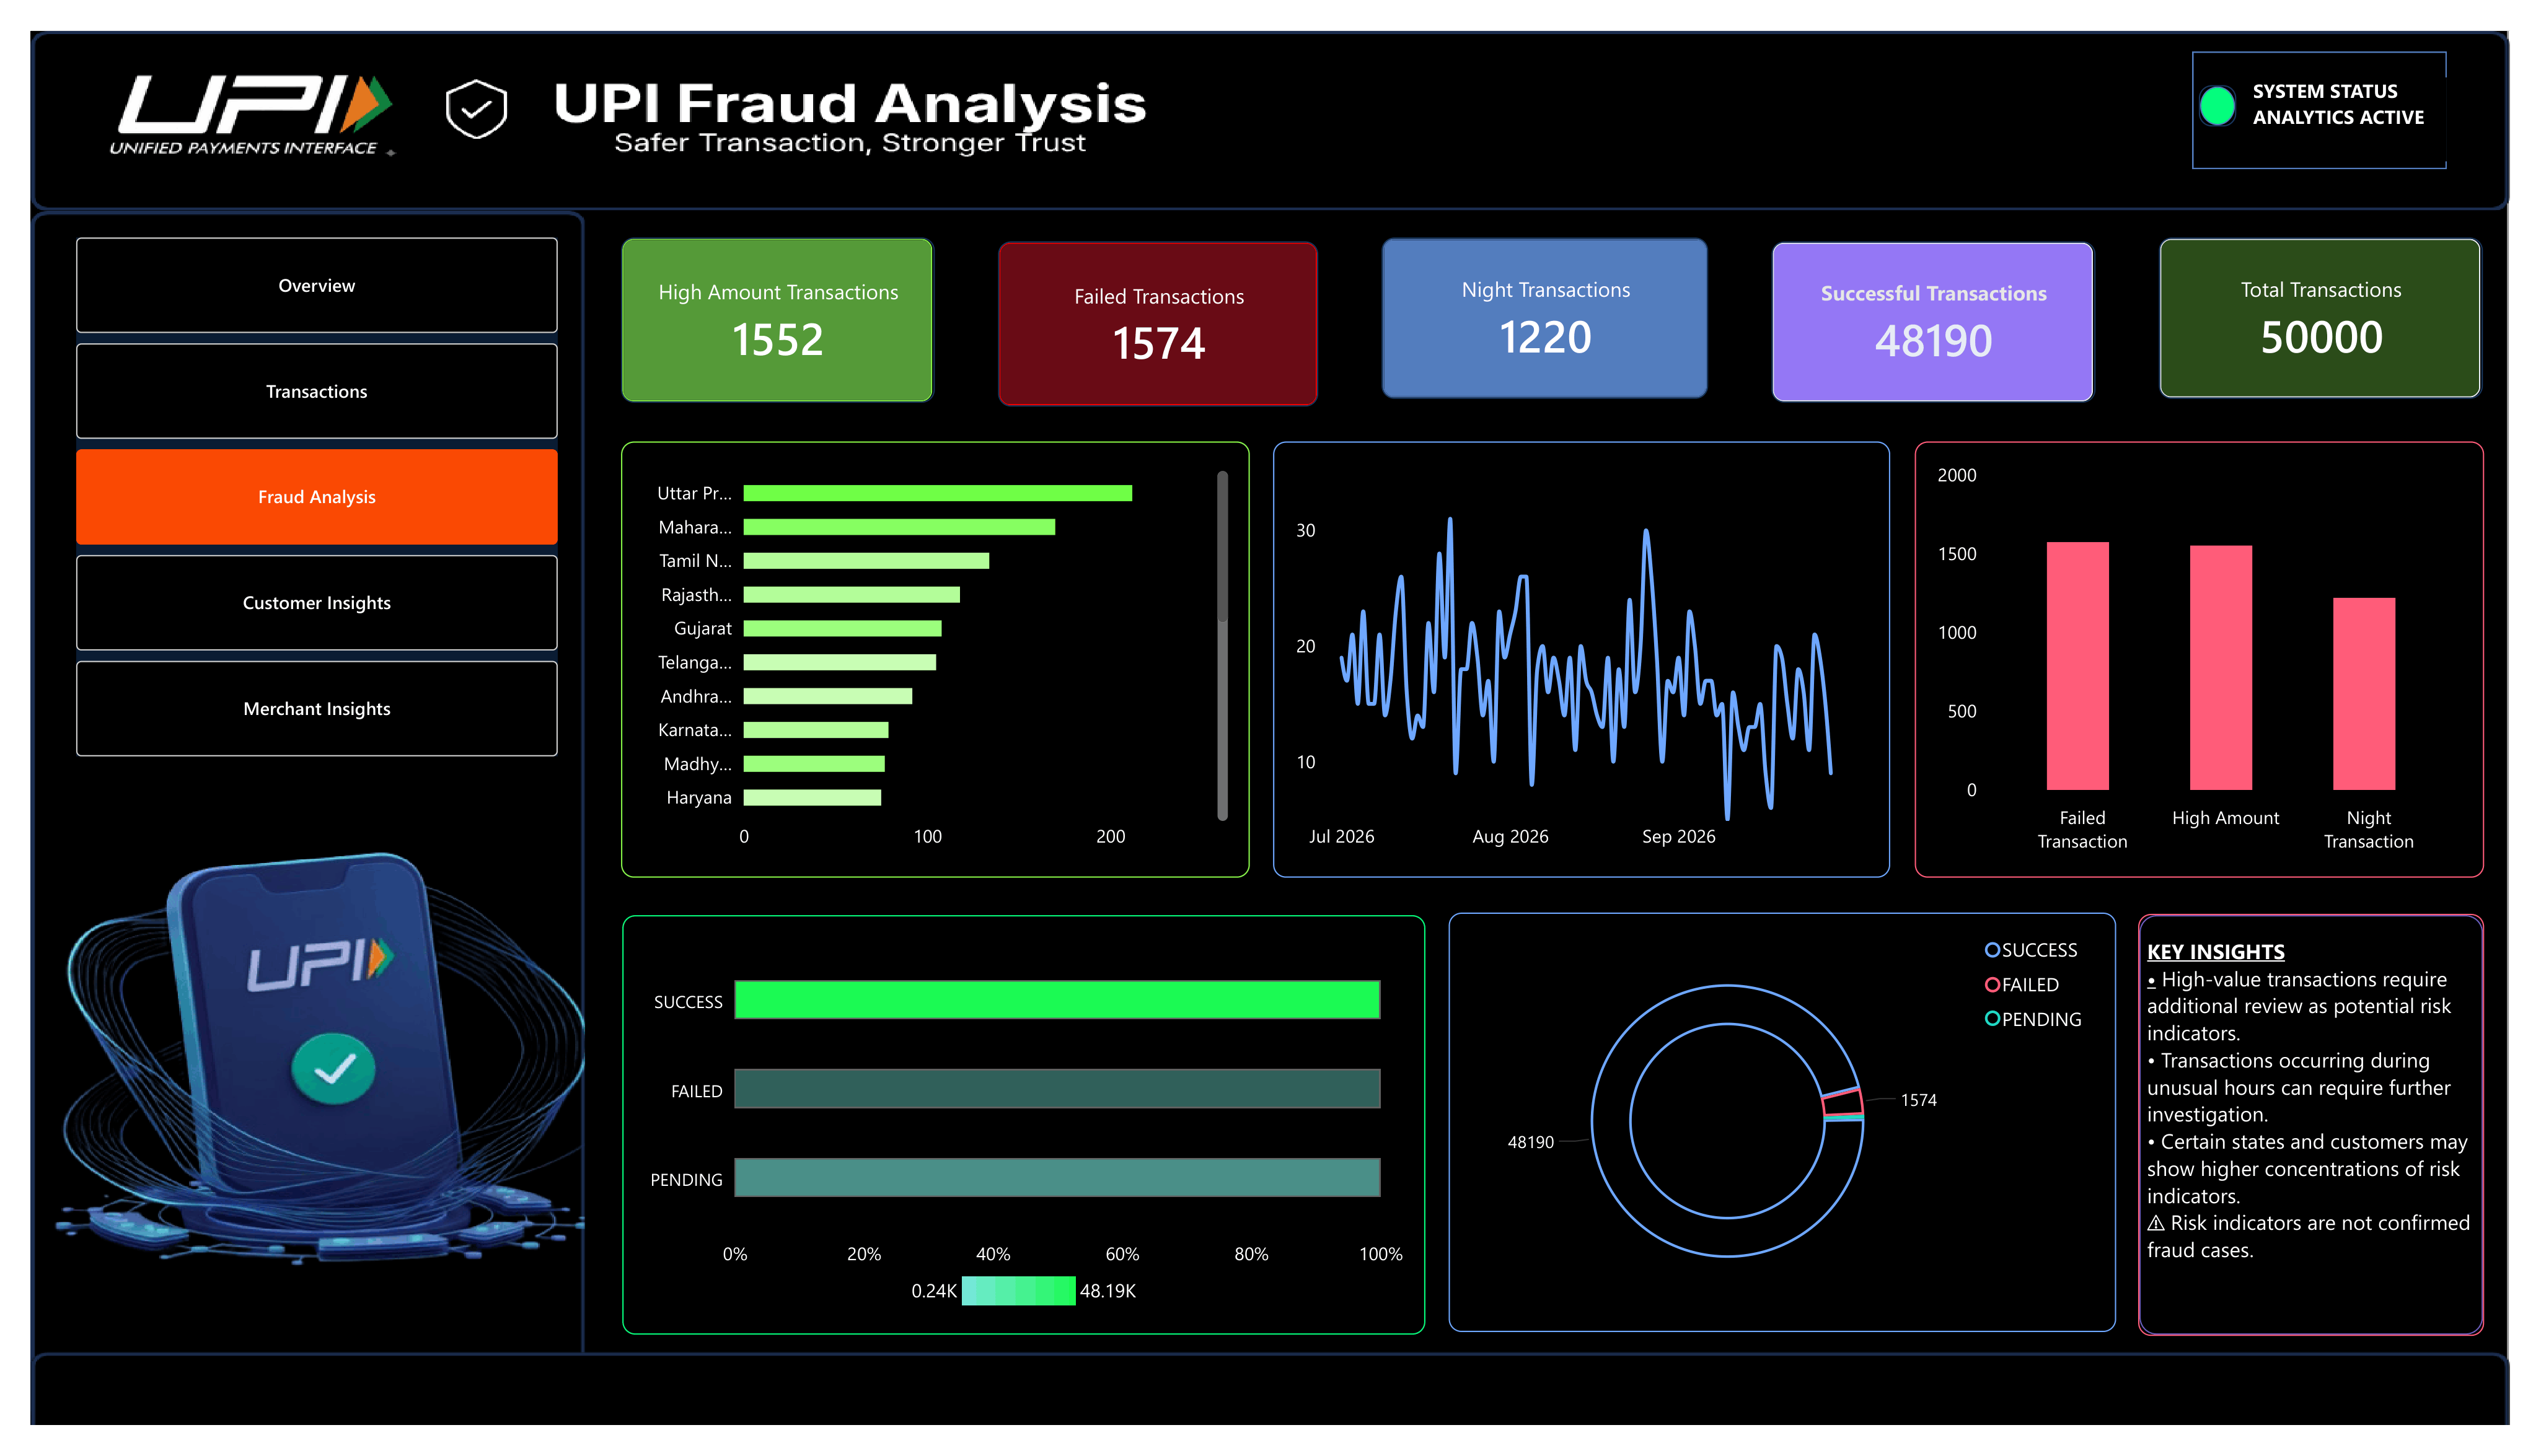

The page's visual inventory and layout, read from the dashboard file:
{"tool":"powerbi","page":{"name":"Fraud Analysis","canvas":[1920,1080],"ordinal":2},"visuals":[{"type":"cardVisual","fields":{"Data":["Customers.High Amount Transactions"]},"box":[456.5,160.2,242.9,128.1],"z":0,"group":"g1"},{"type":"hundredPercentStackedBarChart","fields":{"Category":["Transactions.TransactionStatus"],"Y":["Customers.Total Transactions"]},"box":[457.5,685,622.5,325],"z":0},{"type":"cardVisual","fields":{"Data":["Customers.Failed Transactions"]},"box":[748.2,162.9,248.3,128.1],"z":1000,"group":"g1"},{"type":"clusteredBarChart","fields":{"Category":["Locations.State"],"Y":["Customers.High Amount Transactions"]},"box":[456.6,318.1,486.9,337.6],"z":1000},{"type":"cardVisual","fields":{"Data":["Customers.Successful Transactions"]},"box":[1347.5,162.9,250.9,125.5],"z":2000,"group":"g1"},{"type":"lineChart","fields":{"Category":["Transactions.TransactionDate.Variation.Date Hierarchy.Year","Transactions.TransactionDate.Variation.Date Hierarchy.Quarter","Transactions.TransactionDate.Variation.Date Hierarchy.Month","Transactions.TransactionDate.Variation.Date Hierarchy.Day"],"Y":["Customers.High Amount Transactions"]},"box":[962,318.1,478.3,337.6],"z":2000},{"type":"cardVisual","fields":{"Data":["Transactions.Night Transactions"]},"box":[1045.2,160.2,253.6,125.5],"z":3000,"group":"g1"},{"type":"clusteredColumnChart","fields":{"Category":["Risk Indicators.Risk Indicator"],"Y":["Risk Indicators.Risk Indicator Count 2"]},"box":[1458.6,318.1,441.5,337.6],"z":3000},{"type":"cardVisual","fields":{"Data":["Customers.Total Transactions"]},"box":[1647.2,160.2,250.9,125.5],"z":4000,"group":"g1"},{"type":"shape","box":[1631.8,683.9,268.4,326.8],"z":4000},{"type":"pageNavigator","box":[34.7,160.2,373.8,402],"z":5000},{"type":"textbox","box":[1639.2,702.1,250.9,288.3],"z":6000},{"type":"group","id":"g1","title":"Group 1","box":[456.5,160.2,1441.6,130.8],"z":7000},{"type":"donutChart","fields":{"Category":["Transactions.TransactionStatus"],"Y":["Customers.Total Transactions"]},"box":[1097.5,682.5,517.5,325],"z":8000},{"type":"shape","box":[1673.9,16.3,197.3,90.5],"z":8001},{"type":"textbox","box":[1721,36.2,150.2,65.1],"z":8002},{"type":"shape","box":[1679.4,41.6,29,32.6],"z":8003}]}

Visuals, with their boxes on the page's 1920x1080 design canvas (x1, y1, x2, y2). These are canvas units, not pixel positions in the 2541x1456 screenshot, which may show the page scaled, cropped or inside an application window:
cardVisual - Customers.High Amount Transactions: crop(456, 160, 699, 288)
hundredPercentStackedBarChart - Transactions.TransactionStatus x Customers.Total Transactions: crop(458, 685, 1080, 1010)
cardVisual - Customers.Failed Transactions: crop(748, 163, 996, 291)
clusteredBarChart - Locations.State x Customers.High Amount Transactions: crop(457, 318, 944, 656)
cardVisual - Customers.Successful Transactions: crop(1348, 163, 1598, 288)
lineChart - Transactions.TransactionDate.Variation.Date Hierarchy.Year x Transactions.TransactionDate.Variation.Date Hierarchy.Quarter: crop(962, 318, 1440, 656)
cardVisual - Transactions.Night Transactions: crop(1045, 160, 1299, 286)
clusteredColumnChart - Risk Indicators.Risk Indicator x Risk Indicators.Risk Indicator Count 2: crop(1459, 318, 1900, 656)
cardVisual - Customers.Total Transactions: crop(1647, 160, 1898, 286)
shape: crop(1632, 684, 1900, 1011)
pageNavigator: crop(35, 160, 408, 562)
textbox: crop(1639, 702, 1890, 990)
"Group 1" group: crop(456, 160, 1898, 291)
donutChart - Transactions.TransactionStatus x Customers.Total Transactions: crop(1098, 682, 1615, 1008)
shape: crop(1674, 16, 1871, 107)
textbox: crop(1721, 36, 1871, 101)
shape: crop(1679, 42, 1708, 74)
